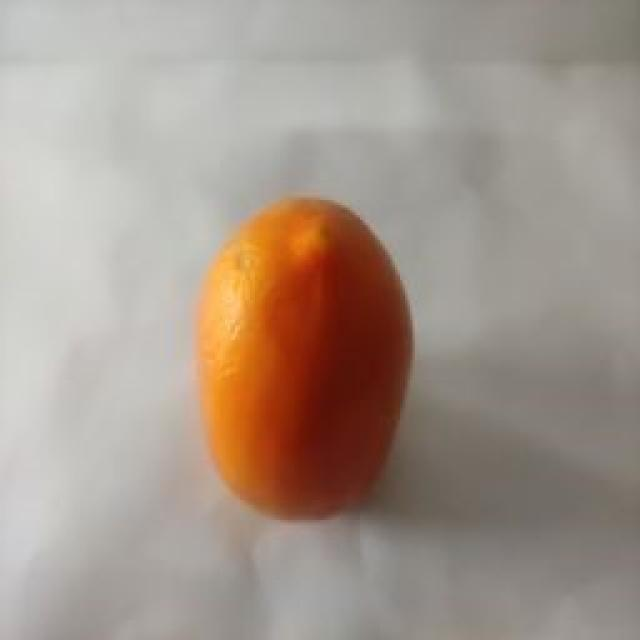Ripe: (184, 188, 420, 522)
